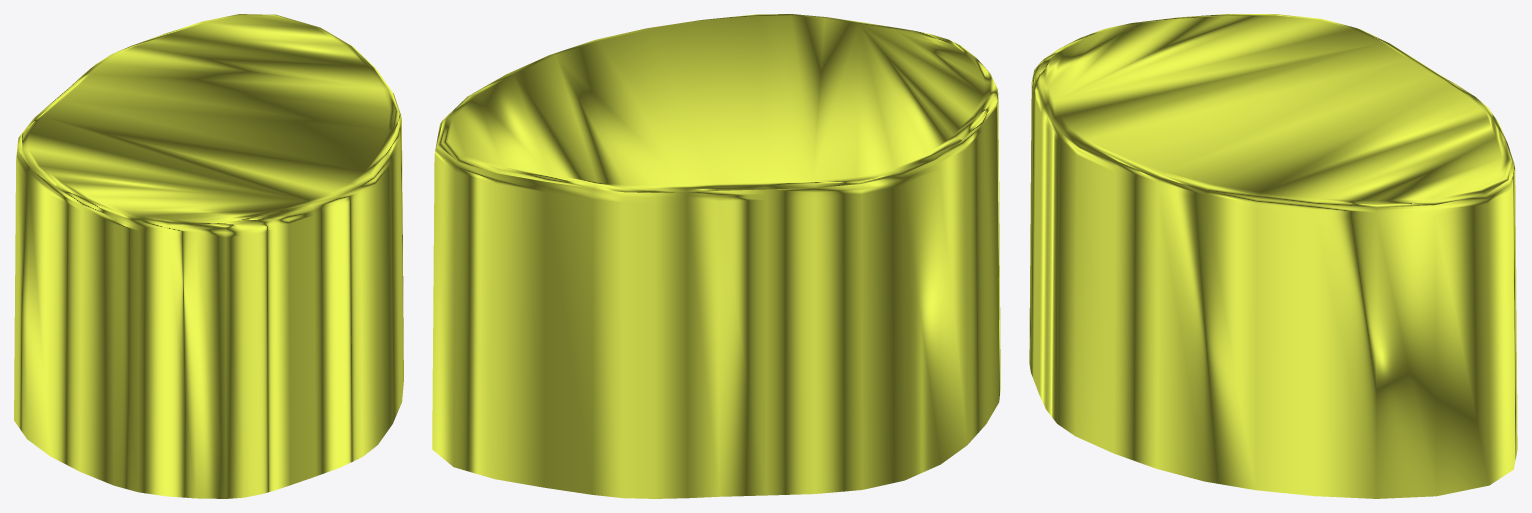
The model's file is lorville_noflyzone_suburb_redout_17.glb.
3 views of the same model, side by side, from view 1: azimuth 30°, elevation 25°; view 2: azimuth 150°, elevation 25°; view 3: azimuth 270°, elevation 25° (orthographic). The views are drawn at different scales.
Size of the model in its own units: 2312 by 1590 by 2411.
